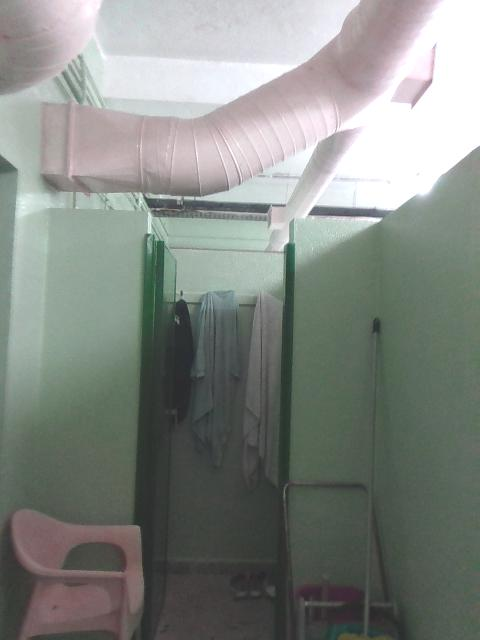open_door: (133, 211, 295, 638)
